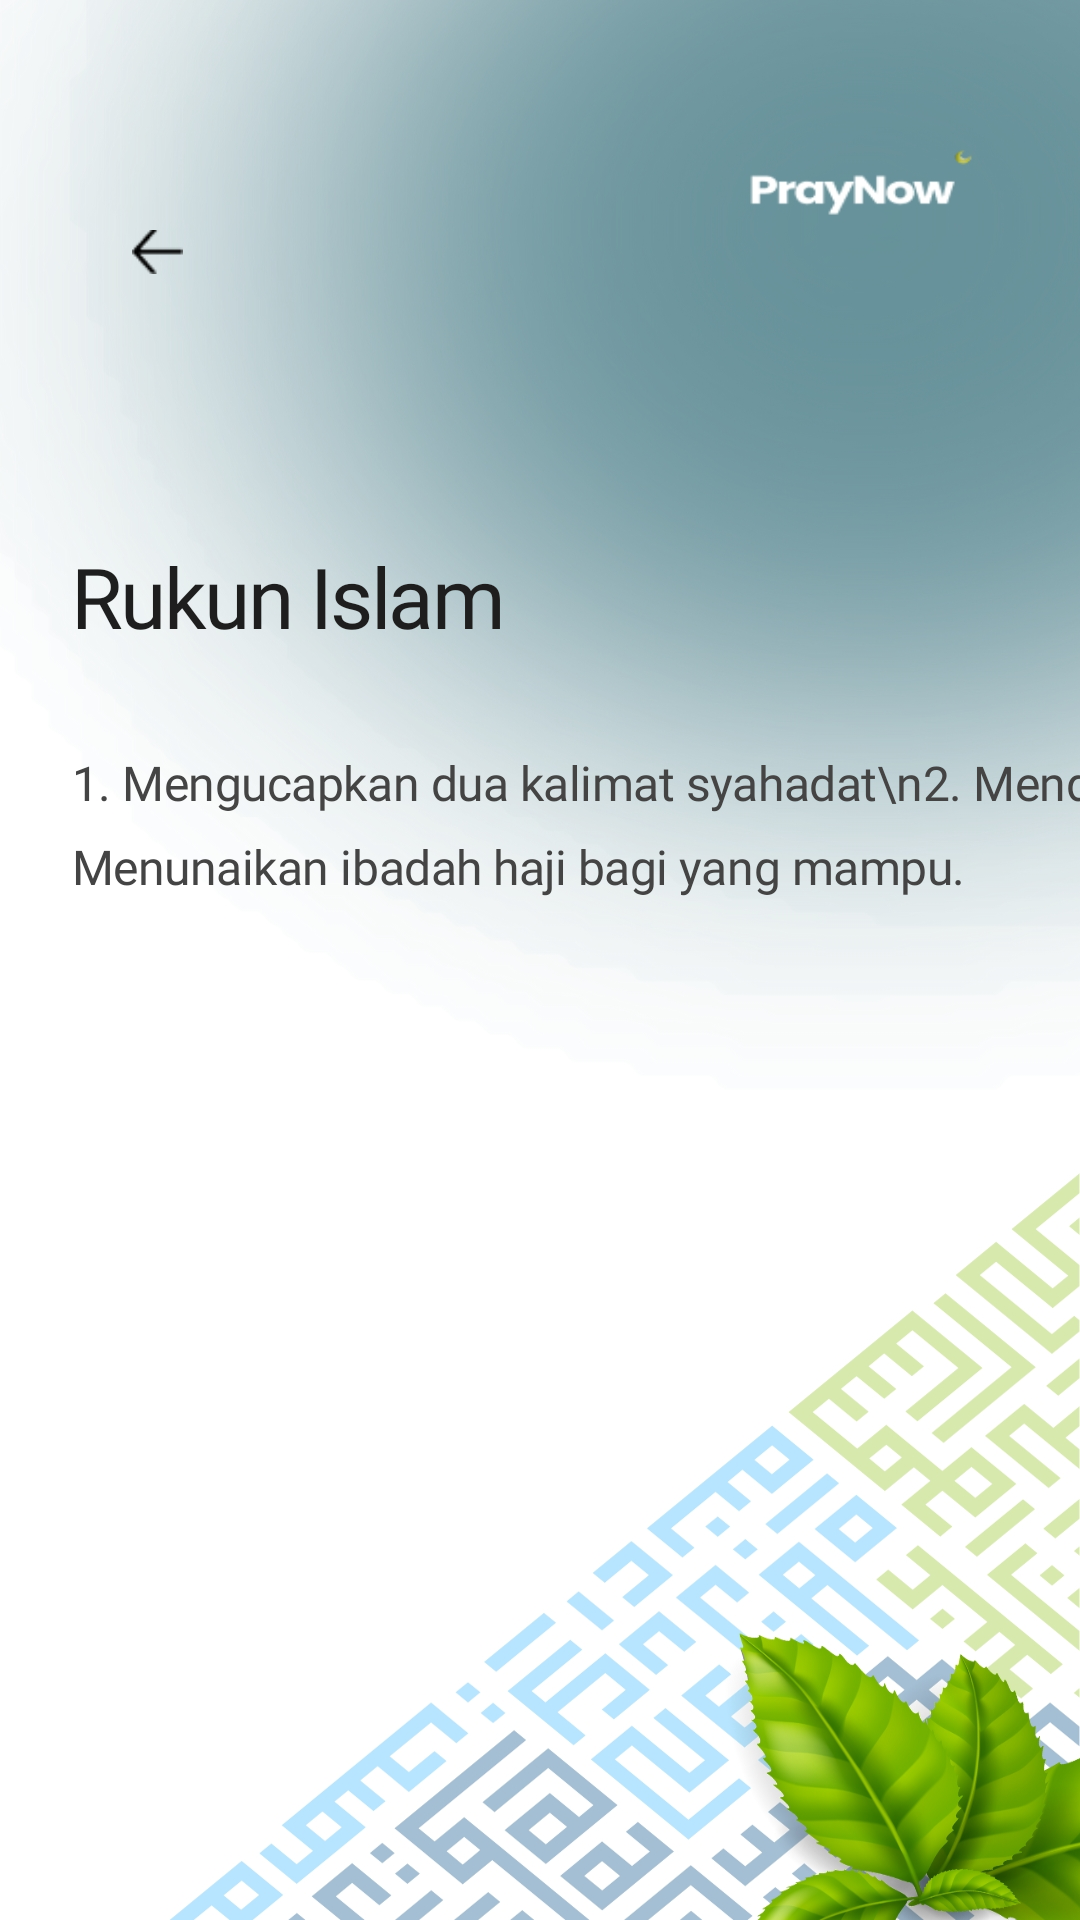

Named icons in this screenshot (1080w x 1920h) and their centers, (x,y):
Back: (157,252)
